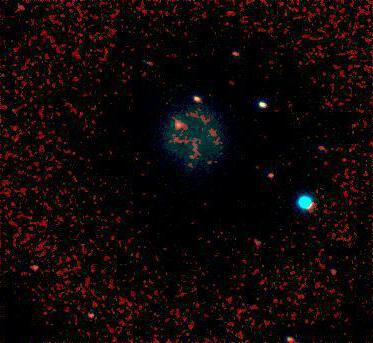star: (307, 132, 337, 162)
